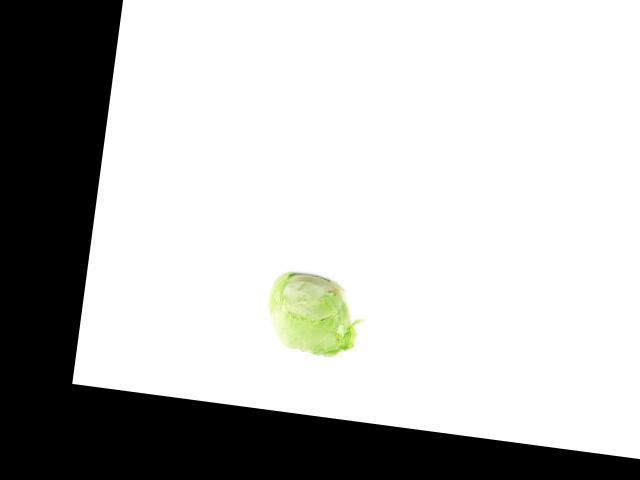lettuce: (258, 265, 360, 363)
